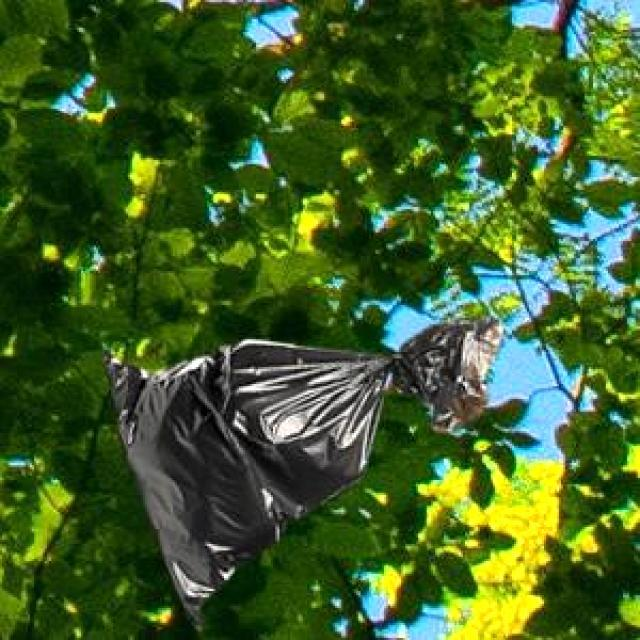Garbage_Bag: (102, 314, 500, 626)
